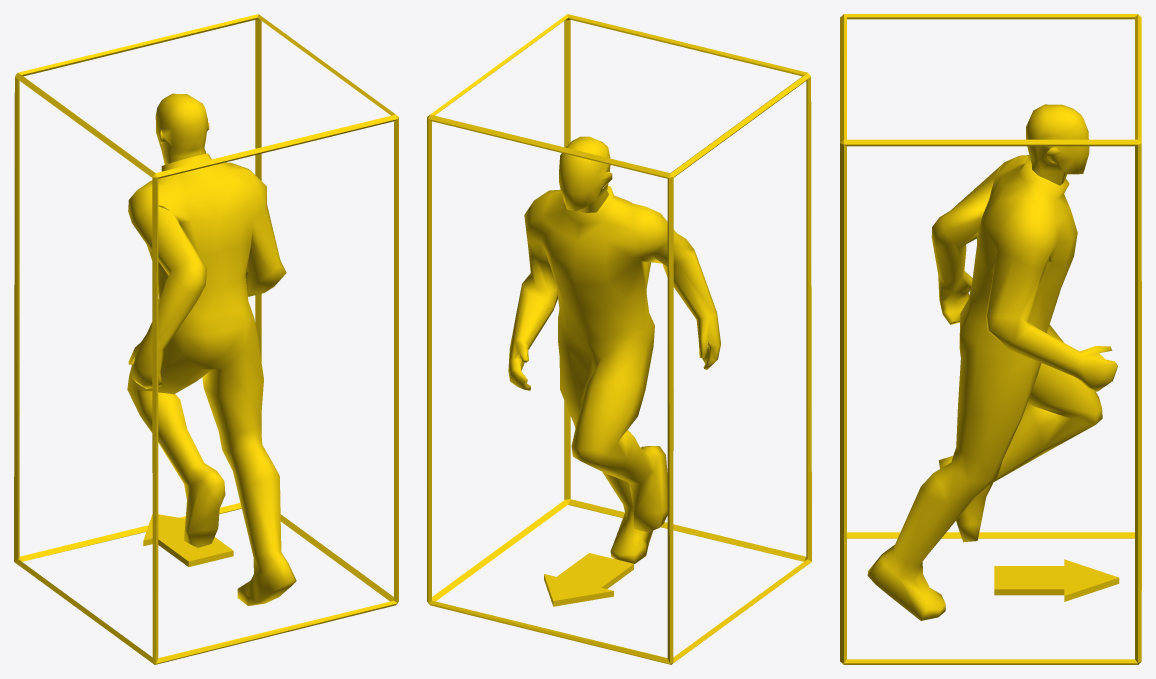
Rendered from SpawnPoint.FBX.
3 renders of one model, left to right at view 1: azimuth 30°, elevation 25°; view 2: azimuth 150°, elevation 25°; view 3: azimuth 270°, elevation 25°, orthographic. The views are drawn at different scales.
Visible parts, largest first — view 1: SpawnPoint; view 2: SpawnPoint; view 3: SpawnPoint.
Part boxes in pixels (left/top/right/bottom): SpawnPoint: left=14, top=14, right=398, bottom=664; SpawnPoint: left=427, top=14, right=811, bottom=664; SpawnPoint: left=840, top=14, right=1141, bottom=664.
Bounding box in the file's own units: 102 × 193 × 101.
